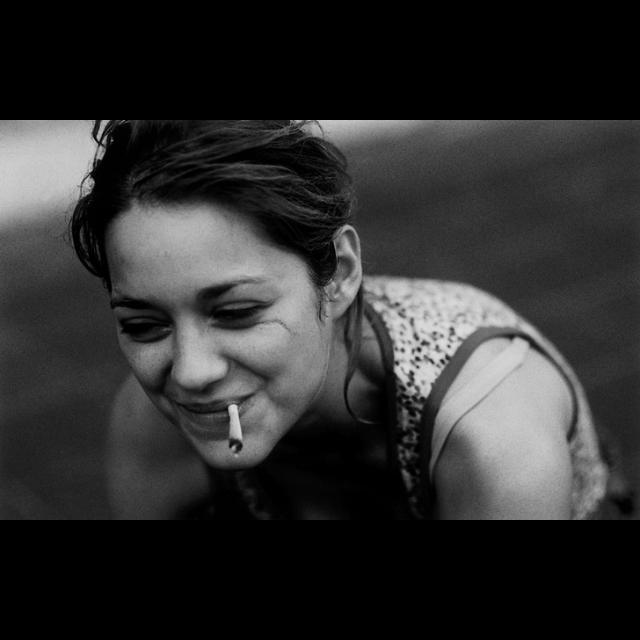rokok: (223, 399, 249, 458)
